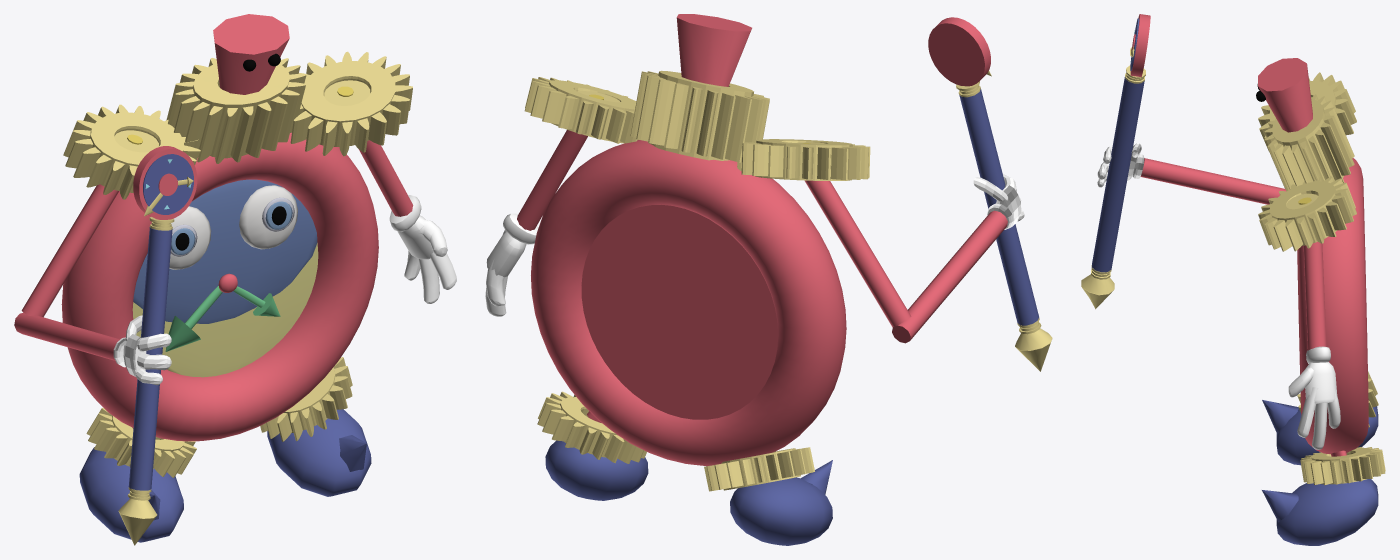
Rendered from timeWizard.glb.
3 views of the same model, side by side, from view 1: azimuth 30°, elevation 25°; view 2: azimuth 150°, elevation 25°; view 3: azimuth 270°, elevation 25° (orthographic). The views are drawn at different scales.
Visible parts, largest first — view 1: 000_Cone_8; view 2: 000_Cone_8; view 3: 000_Cone_8.
Part boxes in pixels (x1=…): 000_Cone_8: x1=14, y1=14, x2=456, y2=545; 000_Cone_8: x1=485, y1=14, x2=1052, y2=545; 000_Cone_8: x1=1081, y1=14, x2=1385, y2=545.
Size of the model in its own units: 0.9953 by 1.04 by 0.6644.
